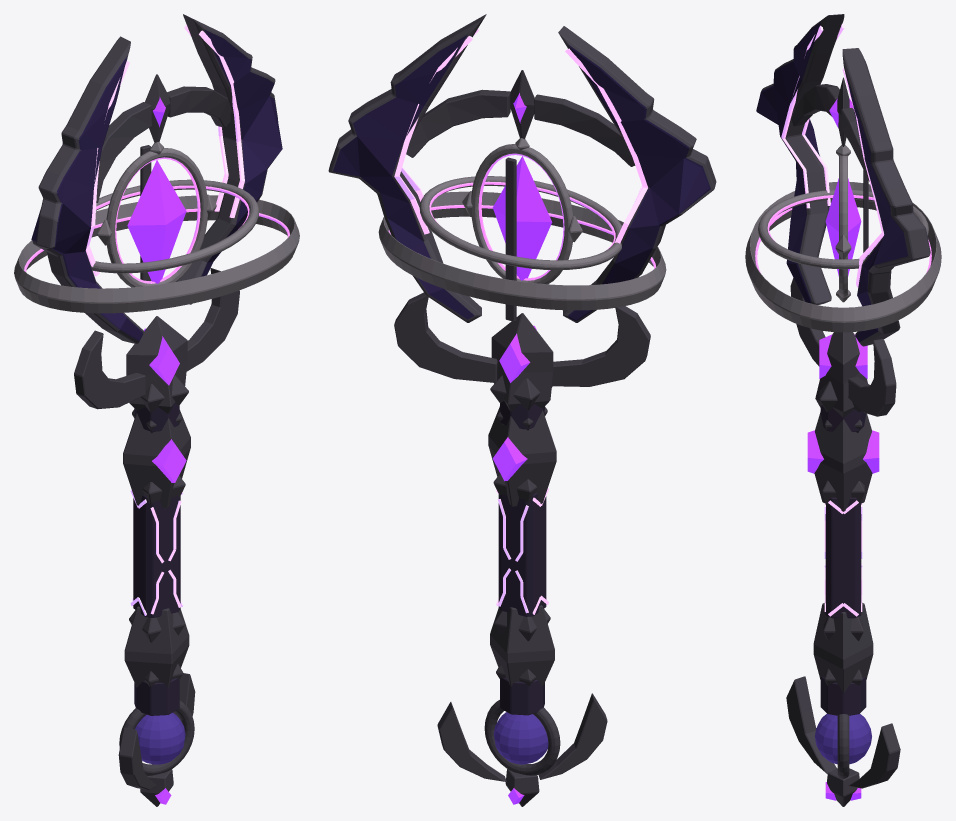
Rendered from Voidheart.fbx.
3 views of the same model, side by side, from view 1: azimuth 30°, elevation 25°; view 2: azimuth 150°, elevation 25°; view 3: azimuth 270°, elevation 25° (orthographic).
Parts seen in each view (by area): view 1: Blade_L, Ring_A, Blade_R, Grip, LowerCollar, UpperCollar, Core_Glow, HeadBase, Ring_C, Claw_LowerL, Ring_B, Claw_LowerR (+16 smaller); view 2: Blade_L, Blade_R, Ring_A, Grip, LowerCollar, UpperCollar, Claw_LowerR, HeadBase, Claw_LowerL, Ring_B, Ring_C, Core_Glow (+17 smaller); view 3: Blade_R, Blade_L, Ring_A, UpperCollar, Grip, LowerCollar, HeadBase, Claw_LowerR, Ring_B, PommelOrb_Glow, PommelHook_L, PommelHook_R (+16 smaller).
Part boxes in pixels (bbox=[...]): Blade_L: bbox=[31, 36, 143, 343]; Ring_A: bbox=[14, 195, 299, 313]; Blade_R: bbox=[176, 14, 282, 304]; Grip: bbox=[133, 495, 180, 617]; LowerCollar: bbox=[124, 606, 189, 687]; UpperCollar: bbox=[123, 409, 190, 508]; Core_Glow: bbox=[127, 160, 186, 283]; HeadBase: bbox=[126, 316, 188, 413]; Ring_C: bbox=[97, 142, 216, 287]; Claw_LowerL: bbox=[74, 330, 145, 409]; Ring_B: bbox=[91, 179, 259, 273]; Claw_LowerR: bbox=[186, 268, 239, 371]; Blade_L: bbox=[558, 26, 716, 322]; Blade_R: bbox=[328, 14, 486, 322]; Ring_A: bbox=[378, 191, 666, 310]; Grip: bbox=[498, 493, 546, 616]; LowerCollar: bbox=[490, 605, 554, 686]; UpperCollar: bbox=[488, 406, 556, 506]; Claw_LowerR: bbox=[394, 292, 497, 382]; HeadBase: bbox=[490, 313, 553, 411]; Claw_LowerL: bbox=[552, 306, 650, 386]; Ring_B: bbox=[419, 176, 621, 270]; Ring_C: bbox=[462, 138, 582, 284]; Core_Glow: bbox=[492, 156, 552, 280]; Blade_R: bbox=[842, 48, 930, 346]; Blade_L: bbox=[756, 14, 844, 304]; Ring_A: bbox=[745, 182, 941, 332]; UpperCollar: bbox=[814, 412, 872, 511]; Grip: bbox=[825, 497, 861, 618]; LowerCollar: bbox=[813, 603, 873, 692]; HeadBase: bbox=[815, 332, 867, 417]; Claw_LowerR: bbox=[848, 339, 896, 416]; Ring_B: bbox=[758, 190, 928, 269]; PommelOrb_Glow: bbox=[815, 714, 871, 764]; PommelHook_L: bbox=[786, 676, 836, 773]; PommelHook_R: bbox=[848, 723, 900, 788].
Size of the model in its own units: 47.98 by 115 by 26.32.
